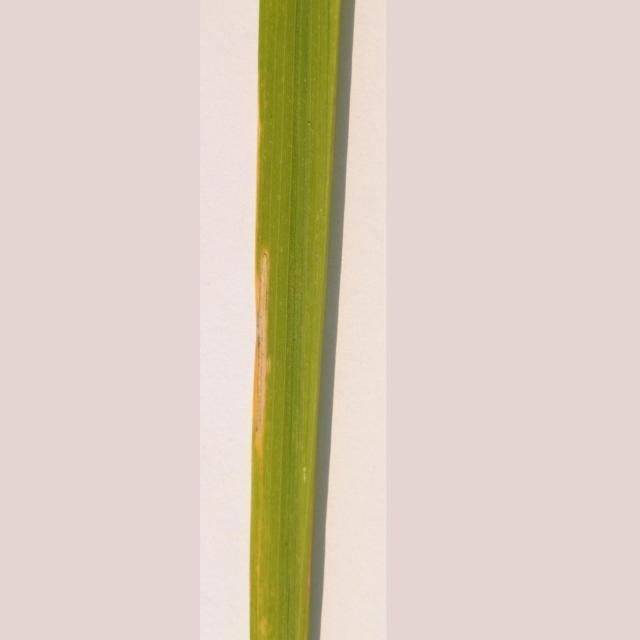leaf blight: (250, 243, 273, 449)
